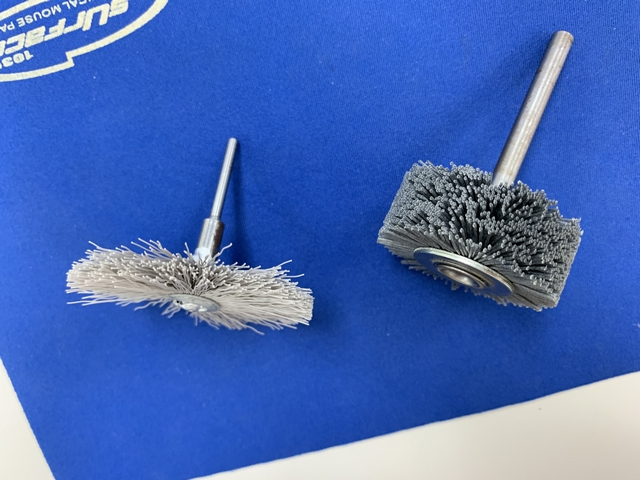TOOL: (66, 133, 335, 349)
Wheel Brush: (379, 31, 596, 333)
